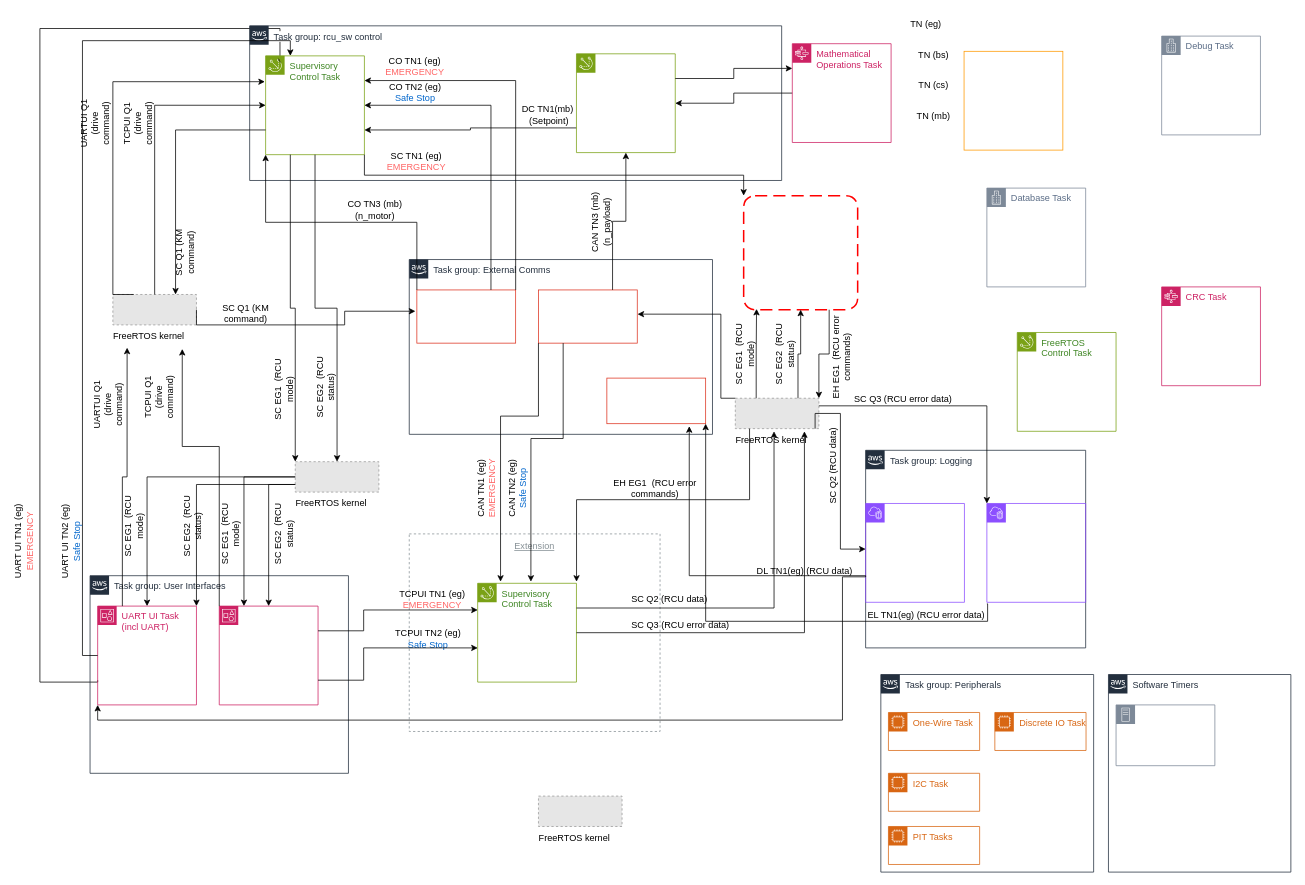
Image size: 1305x885. Some labels were removed from this diagram. Grey dashed boxes stand in for pictures. Each missing label, with the centre of its shape:
BIT Task: point (1013, 100)
CAN Task: point (587, 316)
CANopen Task: point (466, 316)
Data Logging Task: point (914, 552)
Dynamic control task: point (625, 103)
Error Handling Task: point (800, 252)
Error Logging Task: point (1036, 552)
Software Timer: Rate Profile 1: point (1165, 735)
TCP UI Task (incl TCP & SPI & Wiznet): point (268, 655)
UDP Task: point (656, 400)
